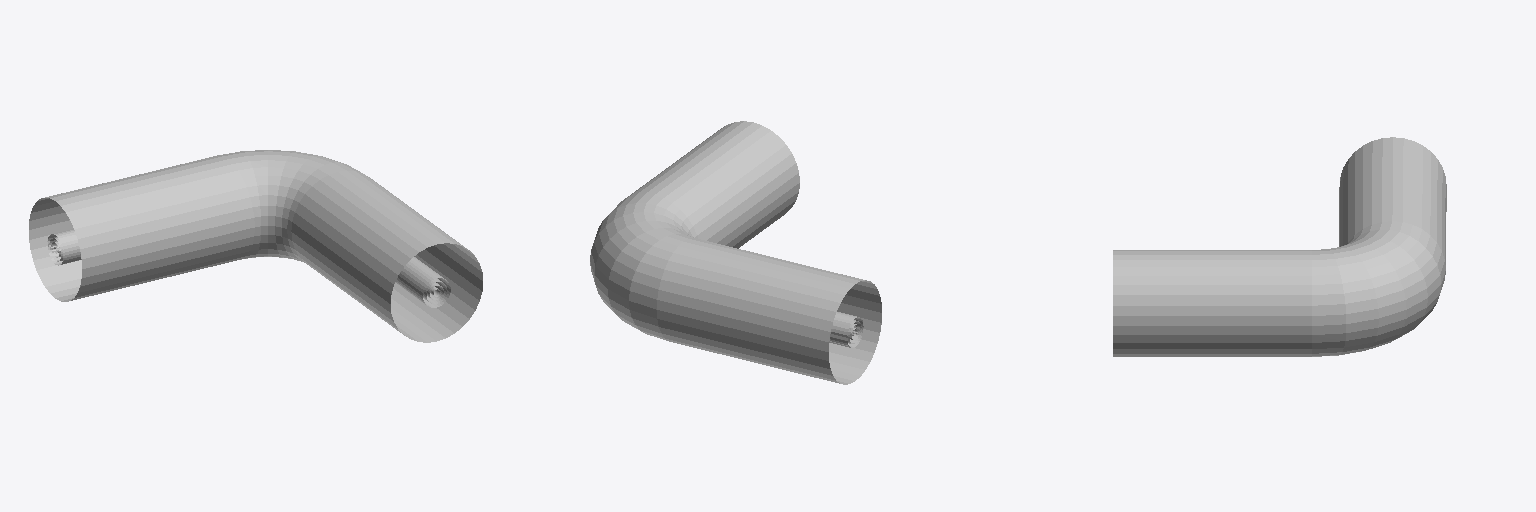
The model's file is Heavy Dark Energy Pipe window 2.obj.
The picture shows the model from 3 angles: view 1: azimuth 30°, elevation 25°; view 2: azimuth 150°, elevation 25°; view 3: azimuth 270°, elevation 25°; orthographic projection.
Parts seen in each view (by area): view 1: Cylinder.001_Cylinder.001_Cylinder.001_Cylinder.003; view 2: Cylinder.001_Cylinder.001_Cylinder.001_Cylinder.003; view 3: Cylinder.001_Cylinder.001_Cylinder.001_Cylinder.003.
Part boxes in pixels (x1,y1,x2,y2): Cylinder.001_Cylinder.001_Cylinder.001_Cylinder.003: (29, 150, 482, 342); Cylinder.001_Cylinder.001_Cylinder.001_Cylinder.003: (590, 121, 881, 384); Cylinder.001_Cylinder.001_Cylinder.001_Cylinder.003: (1113, 137, 1446, 356).
Size of the model in its own units: 2.98 by 0.9626 by 2.99.